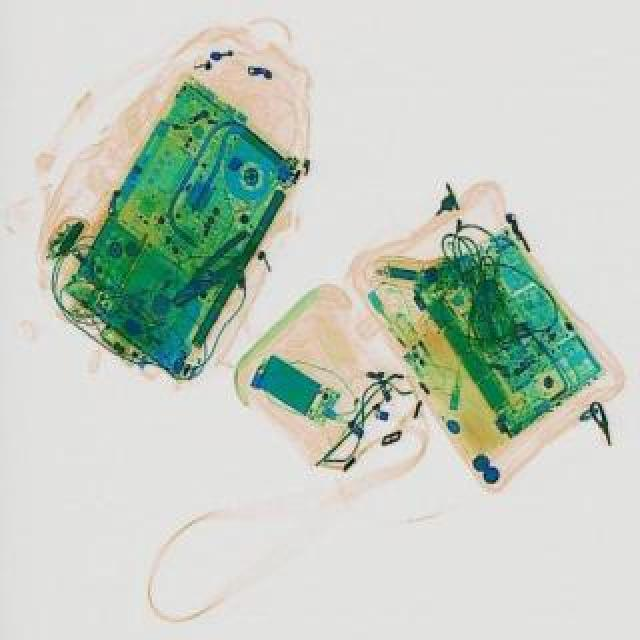wrench: (160, 228, 260, 314)
